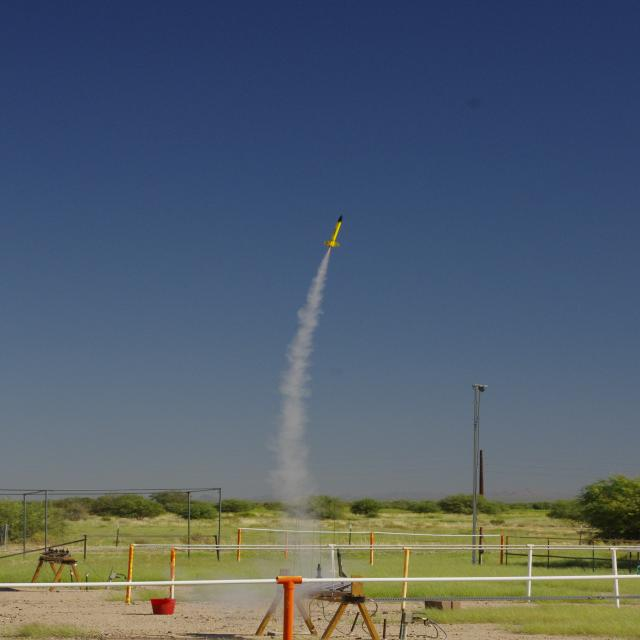Rocket: (324, 213, 343, 248)
